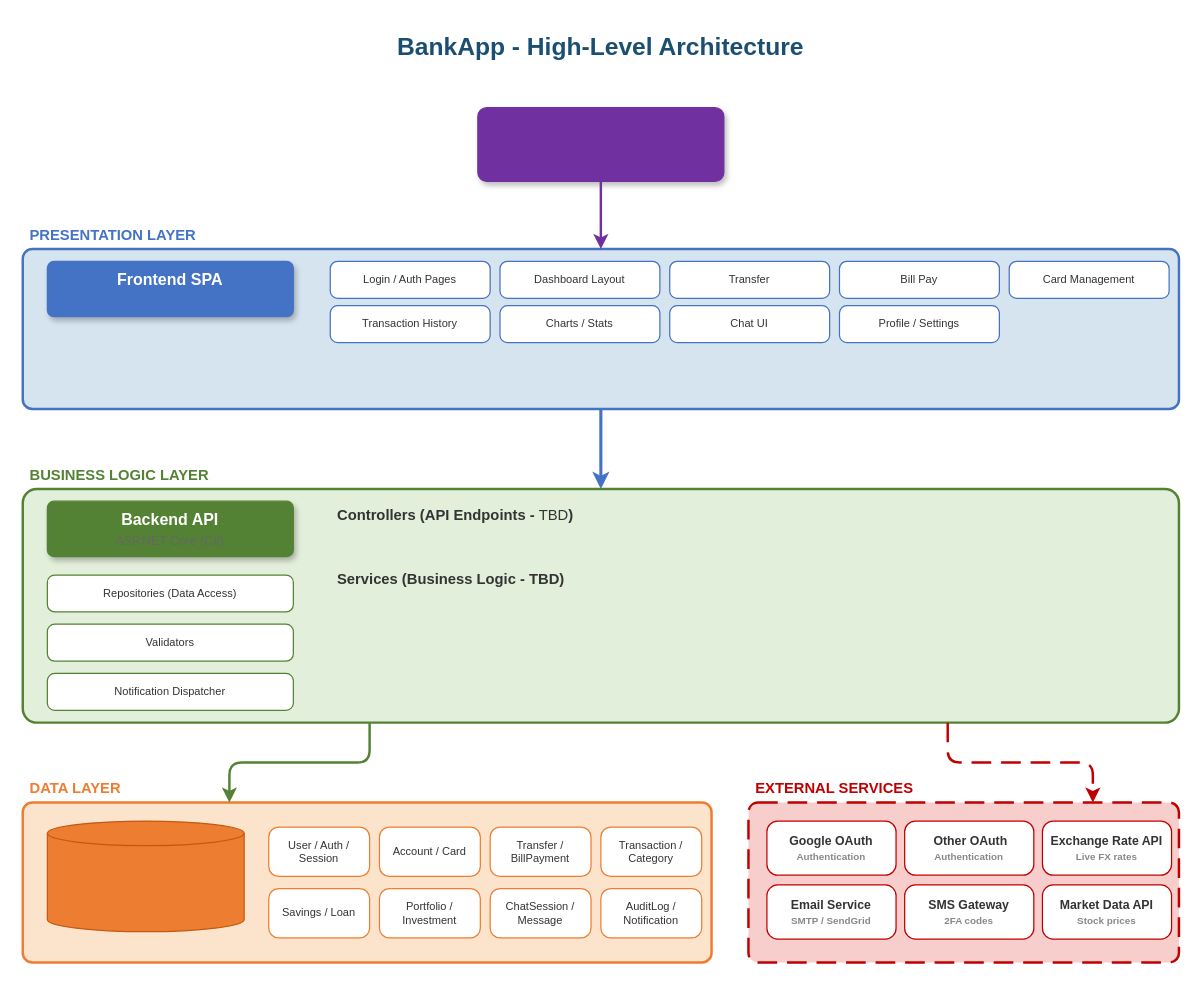
This 1200x984 diagram has some shape labels left out. Each missing label, with the centre of its shape:
"SQL Server Database" goes at (x=145, y=876).
"User" goes at (x=601, y=145).
